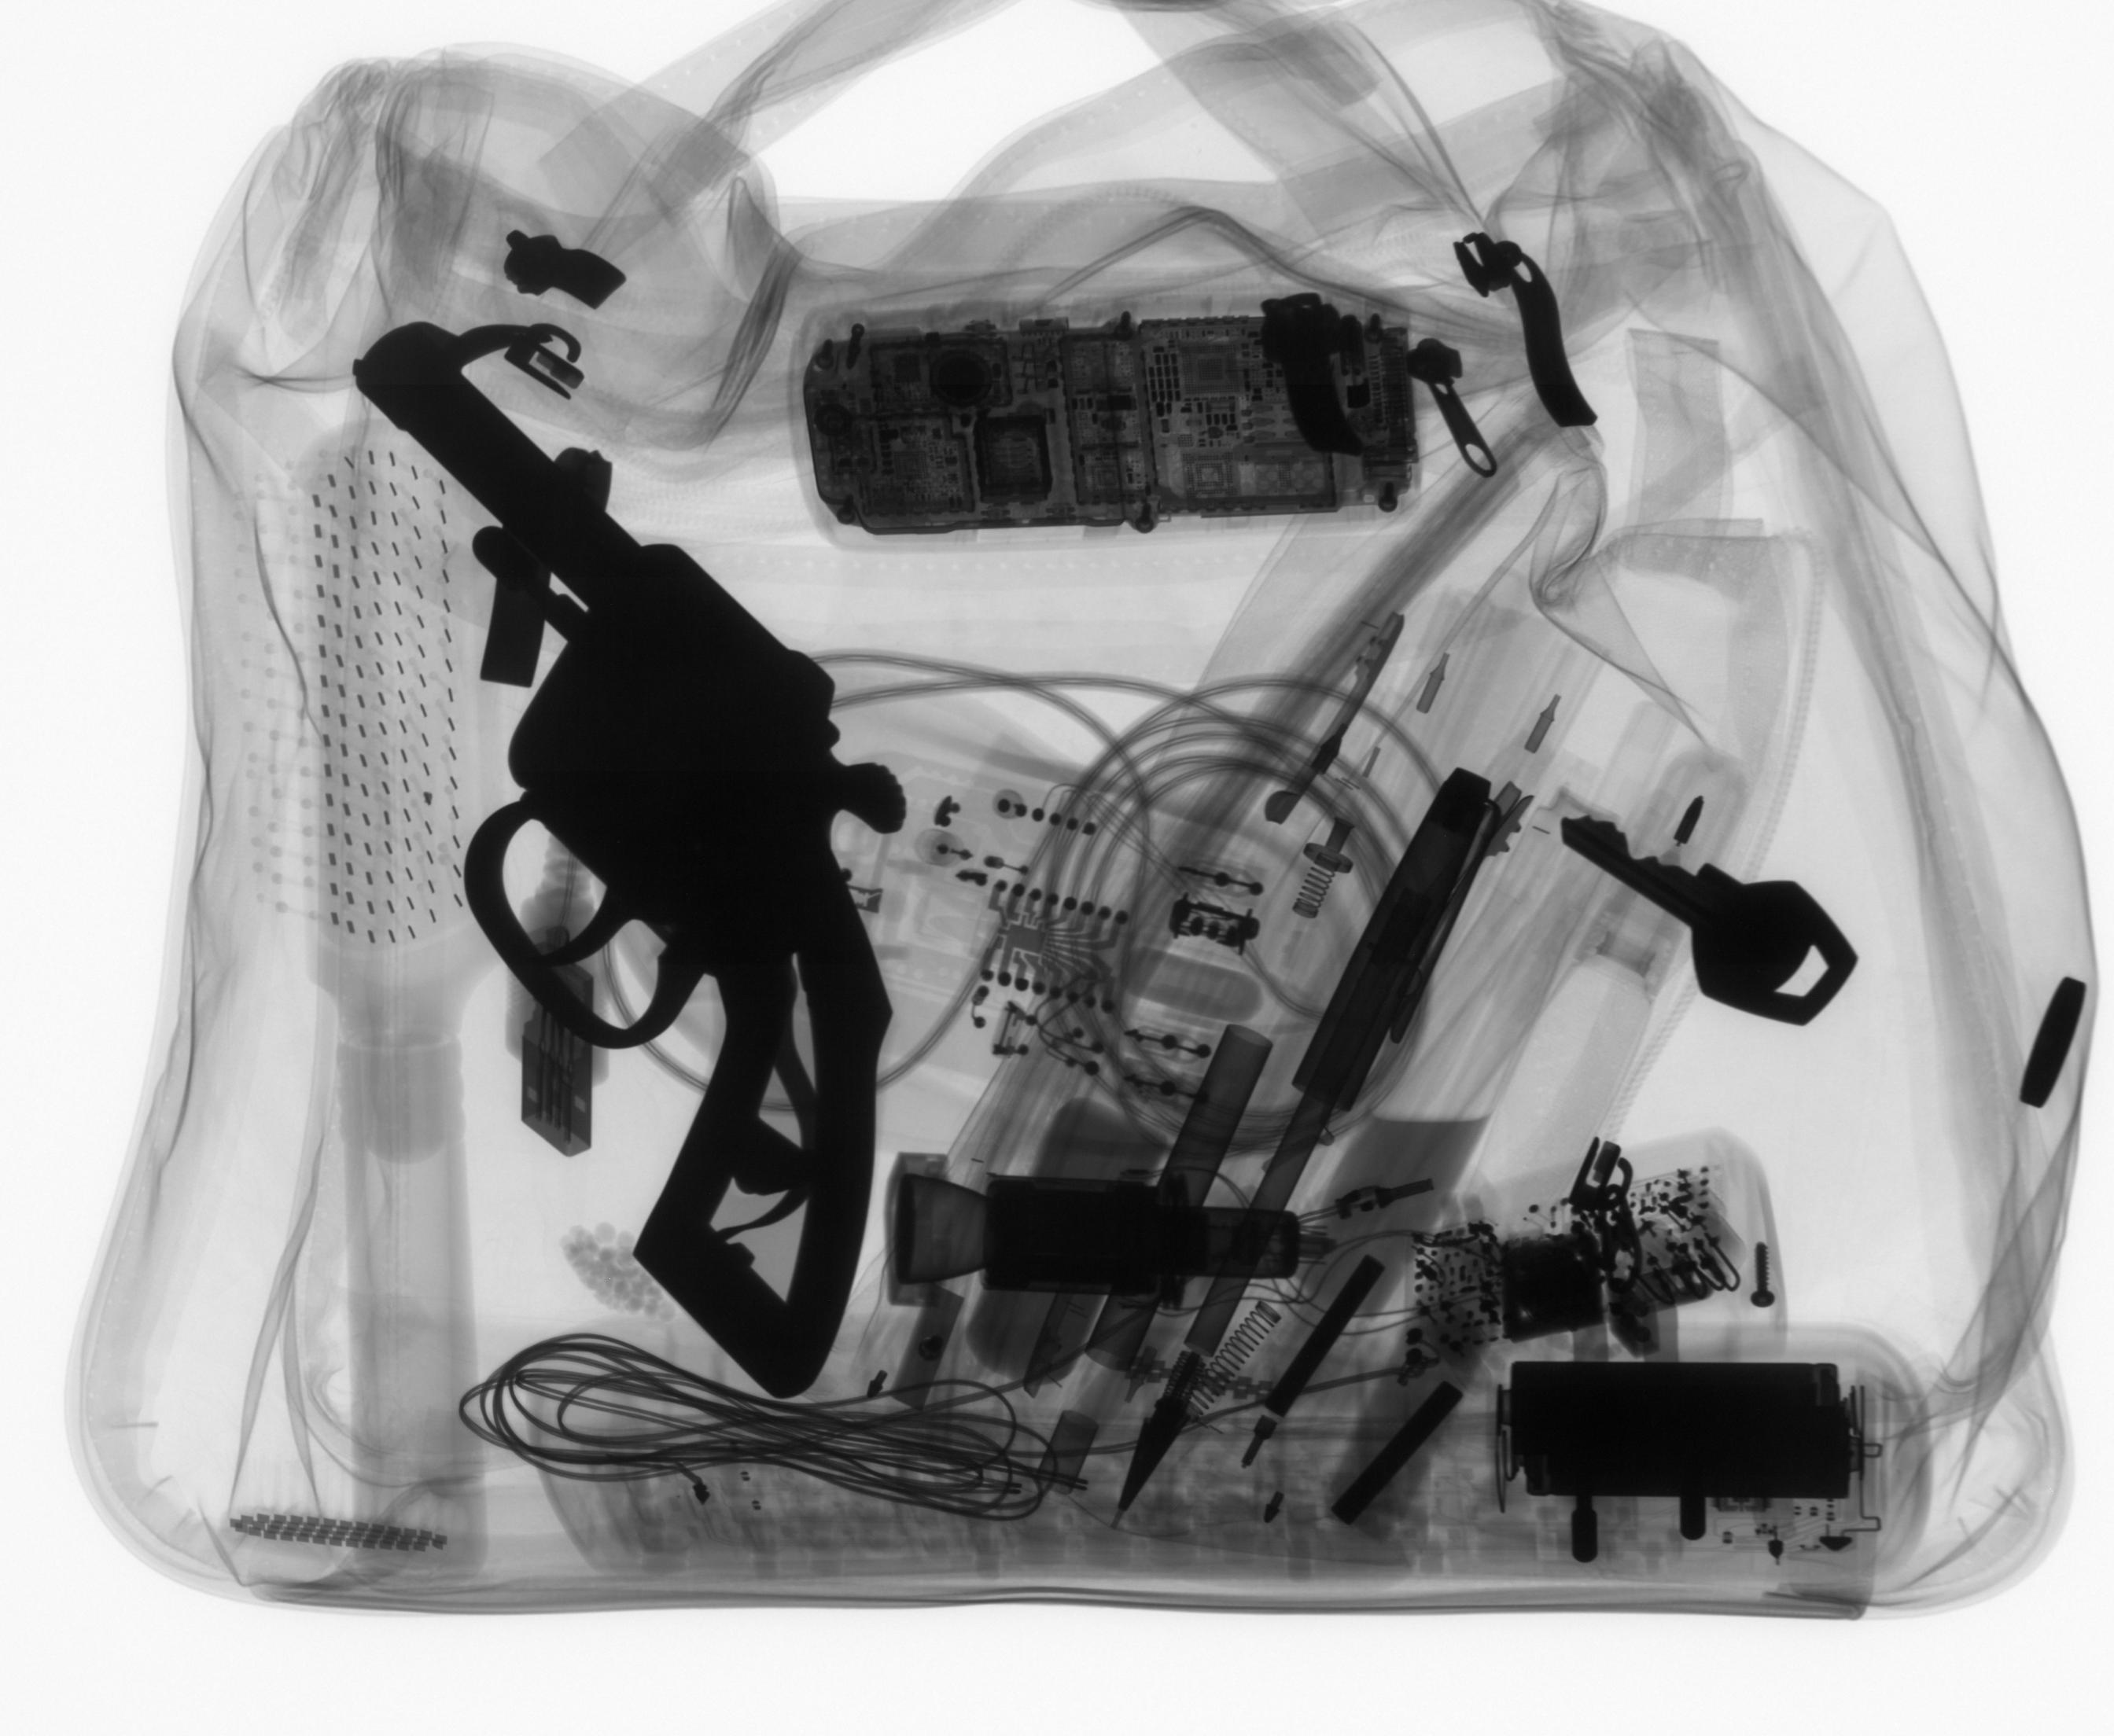Handgun: (341, 311, 922, 1407)
